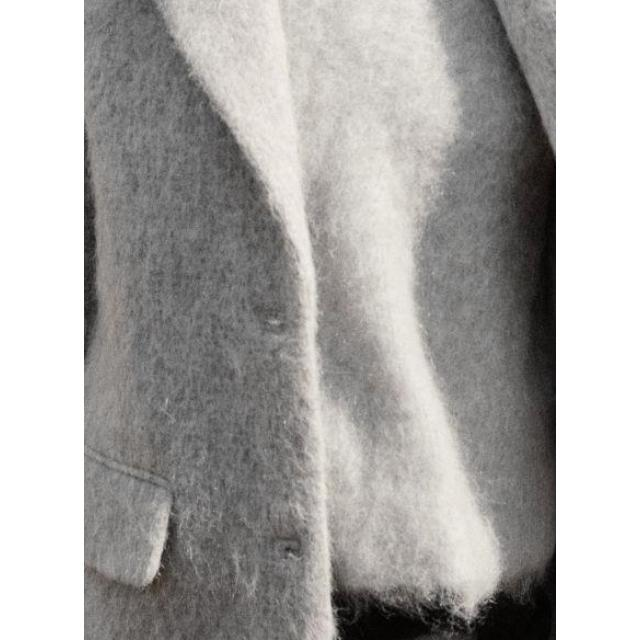wool: (84, 0, 556, 610)
